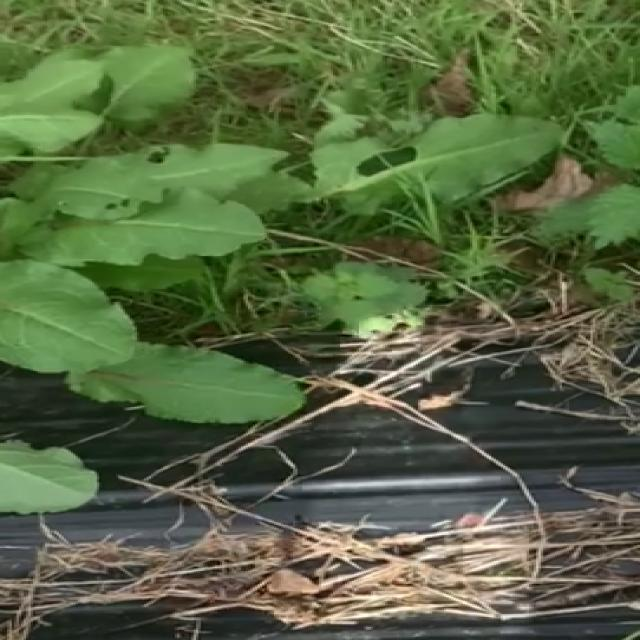organic waste: (0, 53, 586, 528)
